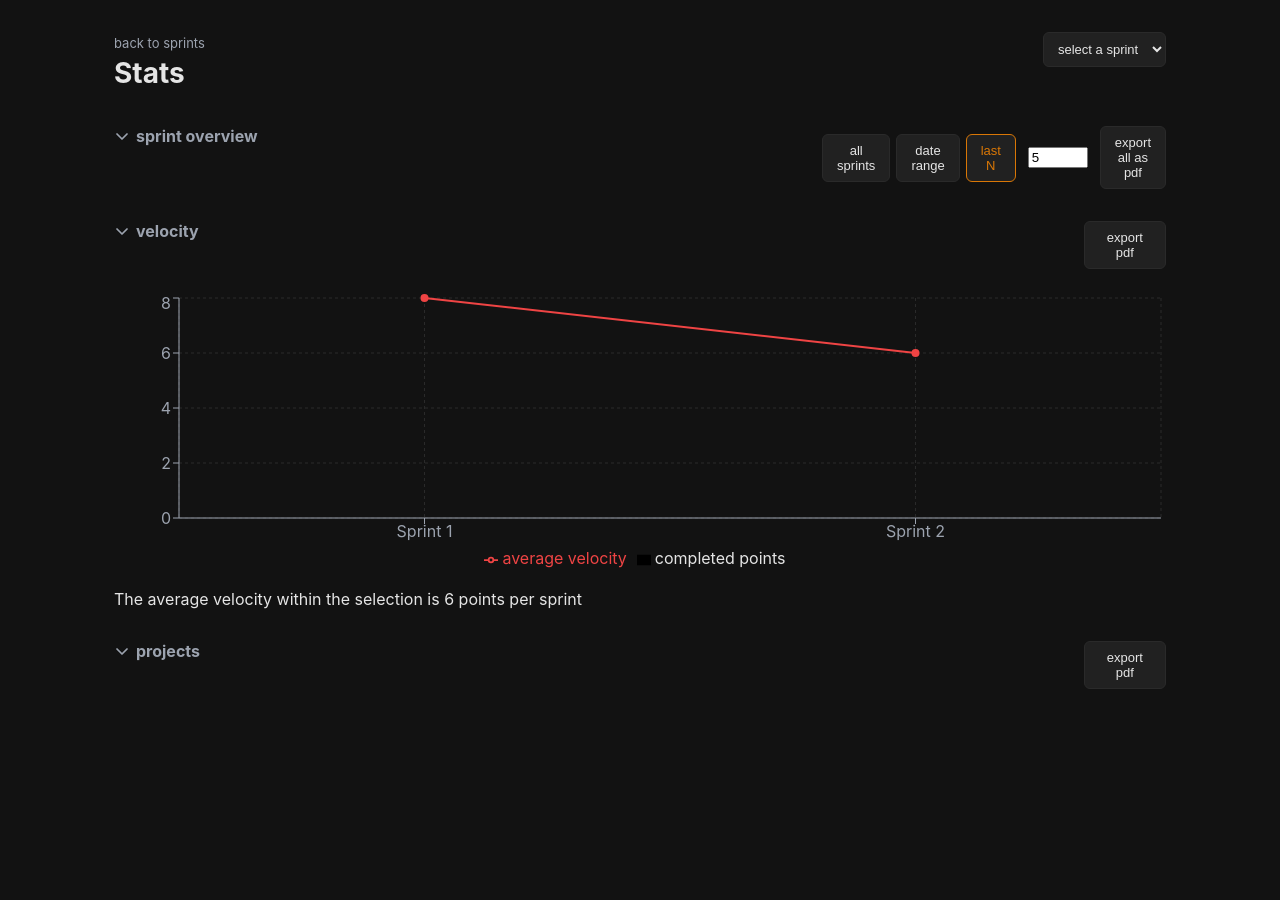
stats page › hides the sprint overview section once a sprint is selected, showing the summary tile instead
Expected: the heading "Velocity" is shown, [136, 221, 199, 241]
Select "Sprint 1" in the dropdown at (1104, 50), box [1043, 32, 1166, 67]
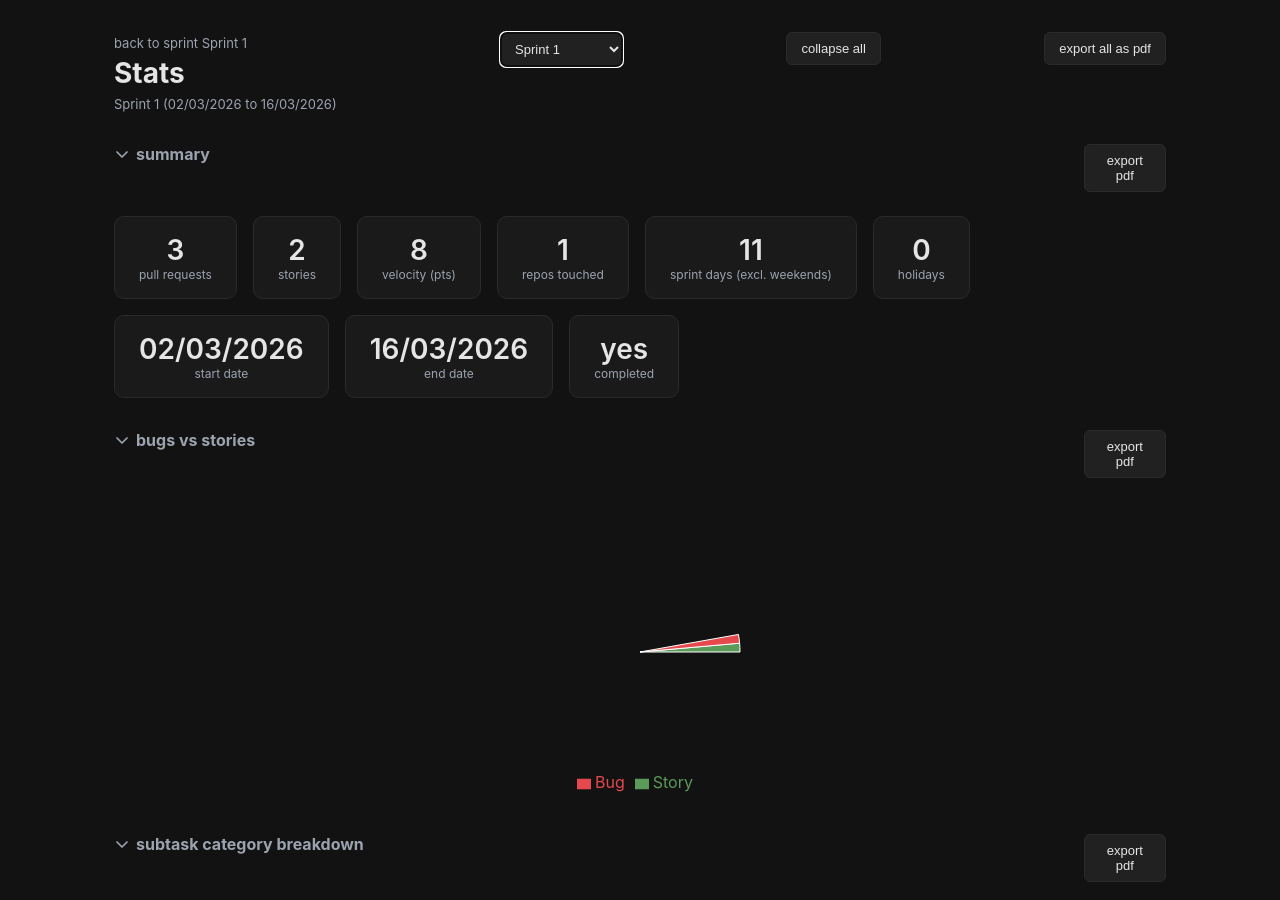
Expected: the text "pull requests" is shown, [139, 267, 212, 282]
Expected: the text "8" is shown, [410, 233, 428, 267]
